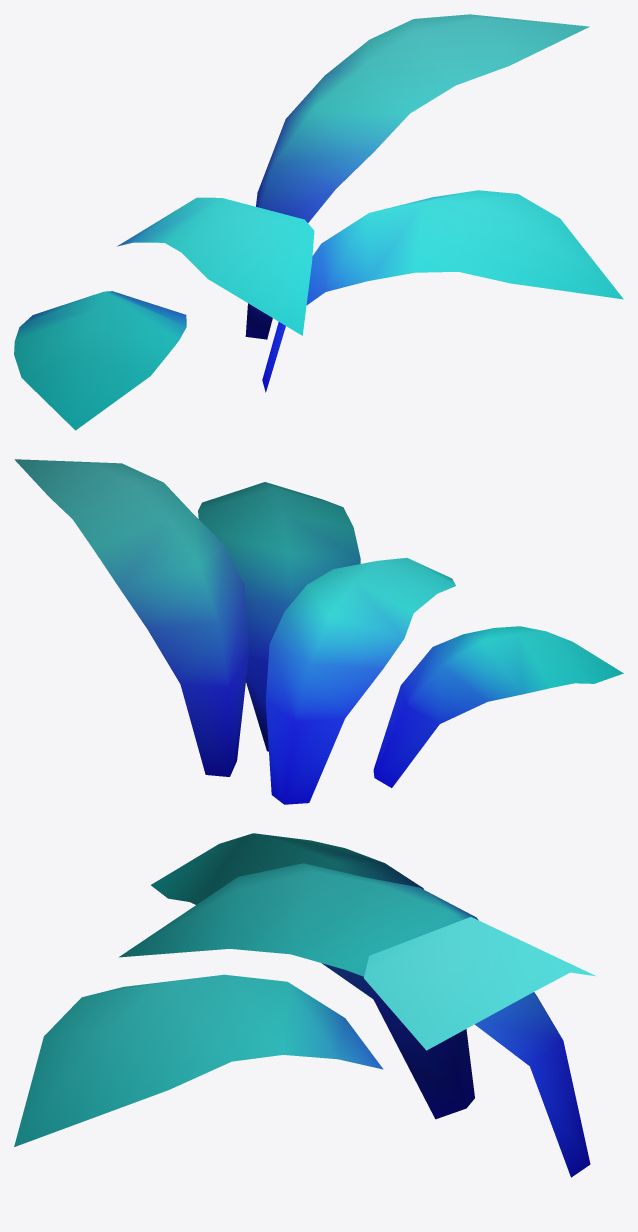
File: SM_Env_Fern_Part_01.gltf
3 views of the same model, one above another, from view 1: azimuth 30°, elevation 25°; view 2: azimuth 150°, elevation 25°; view 3: azimuth 270°, elevation 25° (orthographic). The views are drawn at different scales.
Visible parts, largest first — view 1: SM_Env_Fern_Part_01_LOD0; view 2: SM_Env_Fern_Part_01_LOD0; view 3: SM_Env_Fern_Part_01_LOD0.
Boxes of the visible parts, x1,y1,x2,y2 form: SM_Env_Fern_Part_01_LOD0: [14, 14, 623, 430]; SM_Env_Fern_Part_01_LOD0: [14, 459, 623, 804]; SM_Env_Fern_Part_01_LOD0: [14, 833, 595, 1177].
Bounding box in the file's own units: 2.55 × 1.16 × 1.6.
